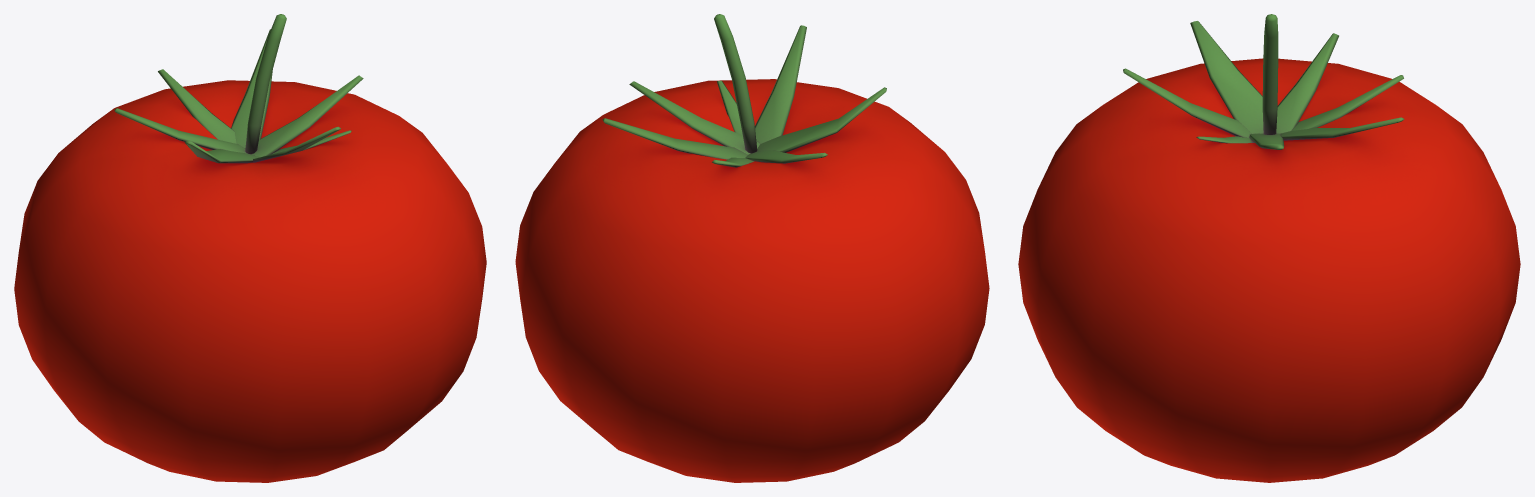
The model's file is Tomato_Visual.glb.
The picture shows the model from 3 angles, left to right: view 1: azimuth 30°, elevation 25°; view 2: azimuth 150°, elevation 25°; view 3: azimuth 270°, elevation 25°; orthographic projection. The views are drawn at different scales.
Visible parts, largest first — view 1: Tomato; view 2: Tomato; view 3: Tomato.
Boxes of the visible parts, bbox=[...] form: Tomato: bbox=[14, 14, 486, 482]; Tomato: bbox=[515, 14, 989, 482]; Tomato: bbox=[1018, 14, 1520, 482].
Size of the model in its own units: 0.5998 by 0.5927 by 0.5998.
1 material, 1 textured.
